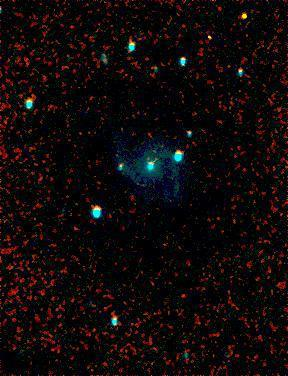star: (230, 1, 260, 31)
